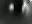person: (21, 1, 32, 17), (9, 4, 16, 14)
